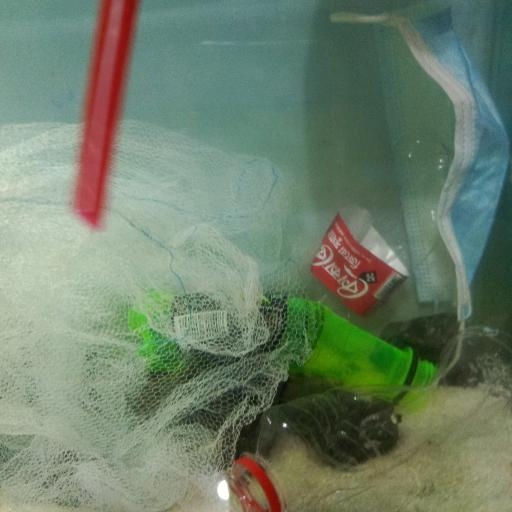mask: (332, 0, 512, 332)
net: (0, 110, 325, 512)
plastic_bottle: (216, 350, 504, 512), (101, 286, 445, 410), (301, 122, 452, 315)
plastic_straw: (69, 0, 140, 229)
